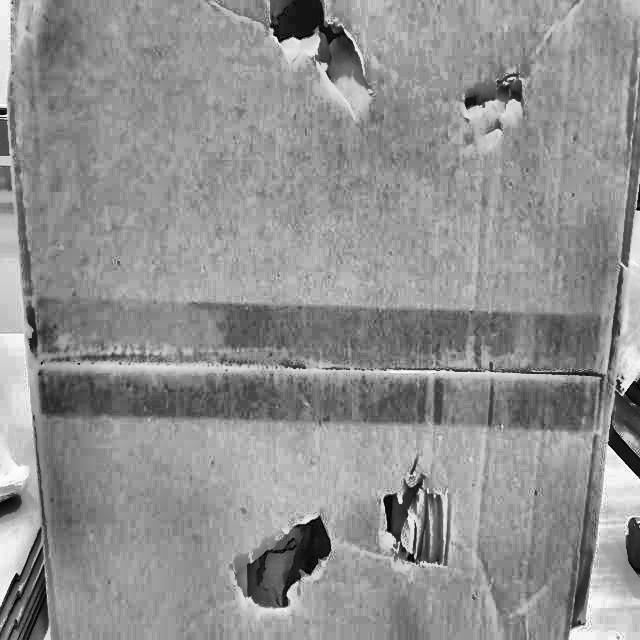box: (6, 0, 639, 639)
hole: (225, 504, 331, 609), (264, 0, 358, 85), (379, 474, 424, 556), (462, 67, 522, 123)
